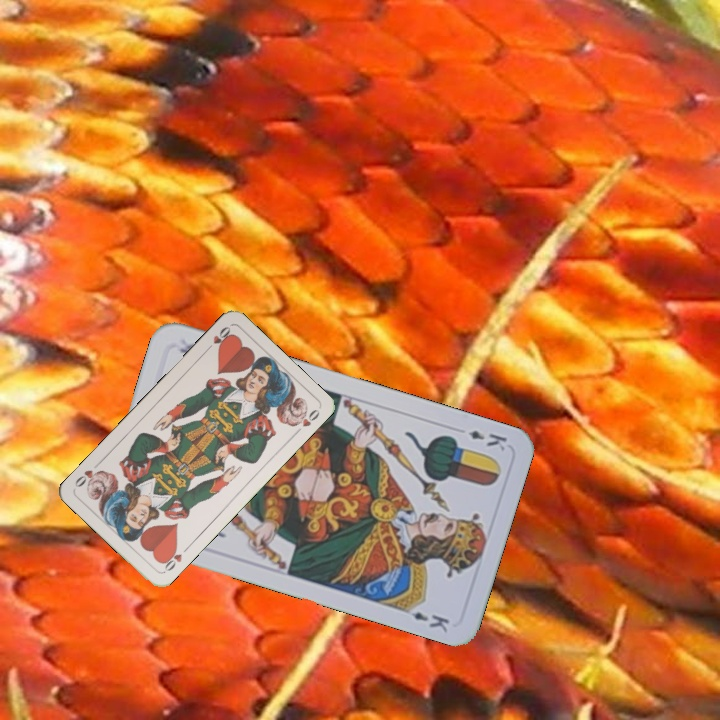EK: (451, 423, 510, 453)
HO: (158, 542, 191, 575), (202, 322, 234, 355)
